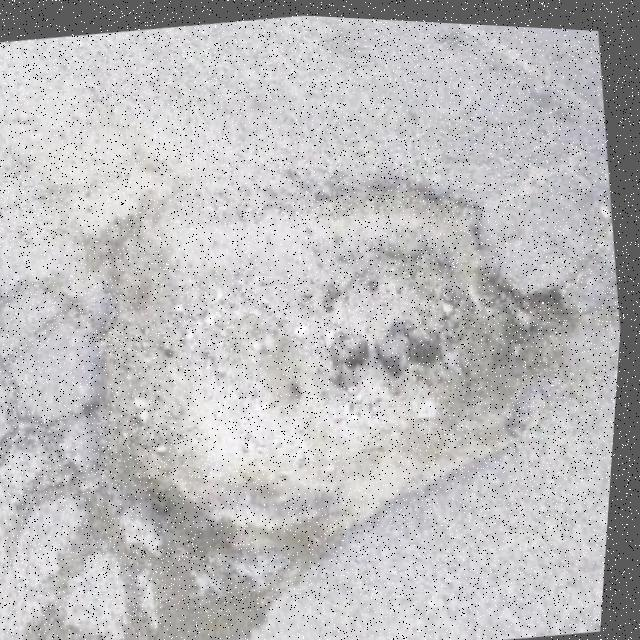pothole: (58, 128, 620, 581)
